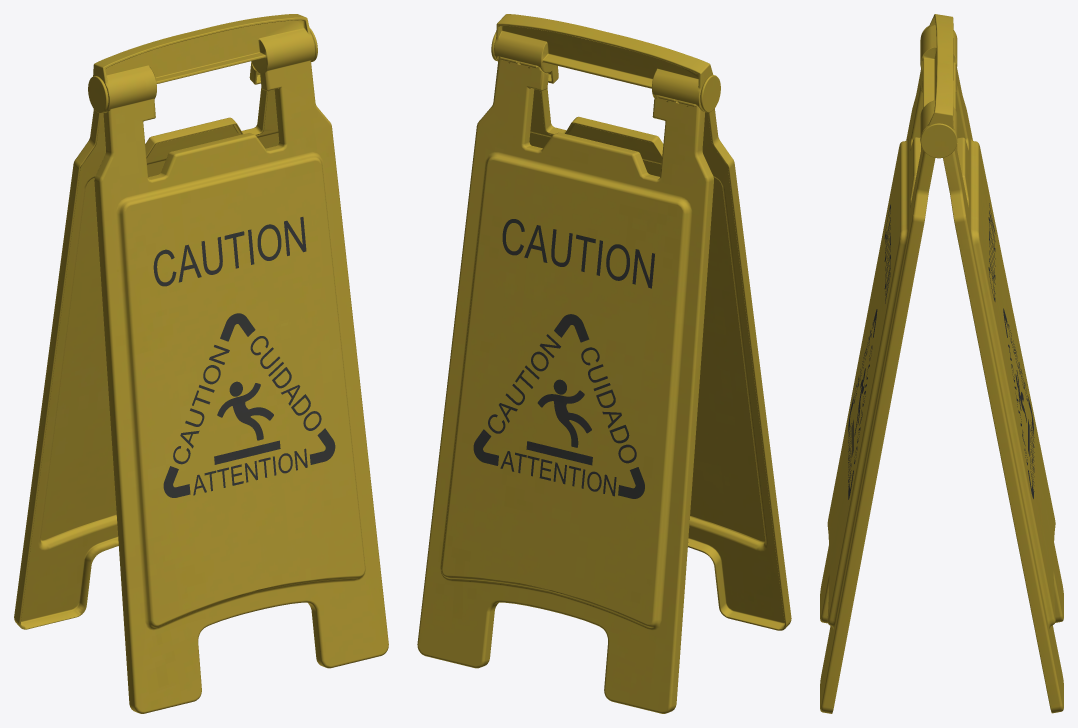
The model's file is sign_wetFloor_a01.glb.
3 renders of one model, left to right at view 1: azimuth 30°, elevation 25°; view 2: azimuth 150°, elevation 25°; view 3: azimuth 270°, elevation 25°, orthographic.
Parts seen in each view (by area): view 1: sm_backpanel_a01_mesh_00, sm_frontpanel_a01_mesh_00; view 2: sm_frontpanel_a01_mesh_00, sm_backpanel_a01_mesh_00; view 3: sm_backpanel_a01_mesh_00, sm_frontpanel_a01_mesh_00.
Boxes of the visible parts, x1,y1,x2,y2 form: sm_backpanel_a01_mesh_00: (88, 14, 388, 713); sm_frontpanel_a01_mesh_00: (14, 62, 279, 629); sm_frontpanel_a01_mesh_00: (417, 56, 713, 713); sm_backpanel_a01_mesh_00: (491, 14, 791, 630); sm_backpanel_a01_mesh_00: (820, 14, 957, 713); sm_frontpanel_a01_mesh_00: (943, 68, 1063, 713).
Size of the model in its own units: 0.2797 by 0.6401 by 0.2353.
Materials: 2 (2 with a texture image).
